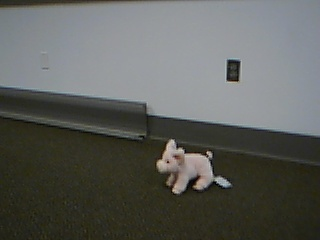piggy: (155, 137, 215, 196)
